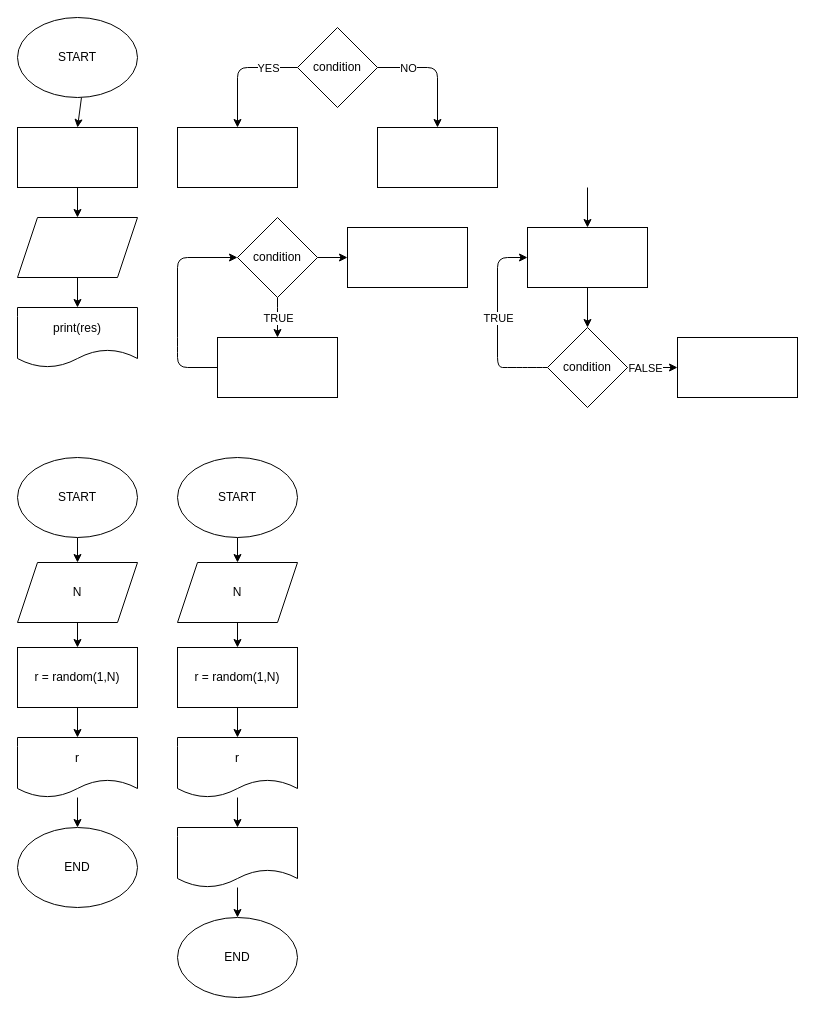
Some shapes in this 815 by 1015 pixel diagram are drawn without their labels. Here are the shapes that lost their labels. From the top down, the box of each, then its label:
(16, 126, 138, 188): count = 0 res = 1 * Sqrt(2)
(16, 216, 138, 278): count
(176, 826, 298, 888): math.pow(r,2)
